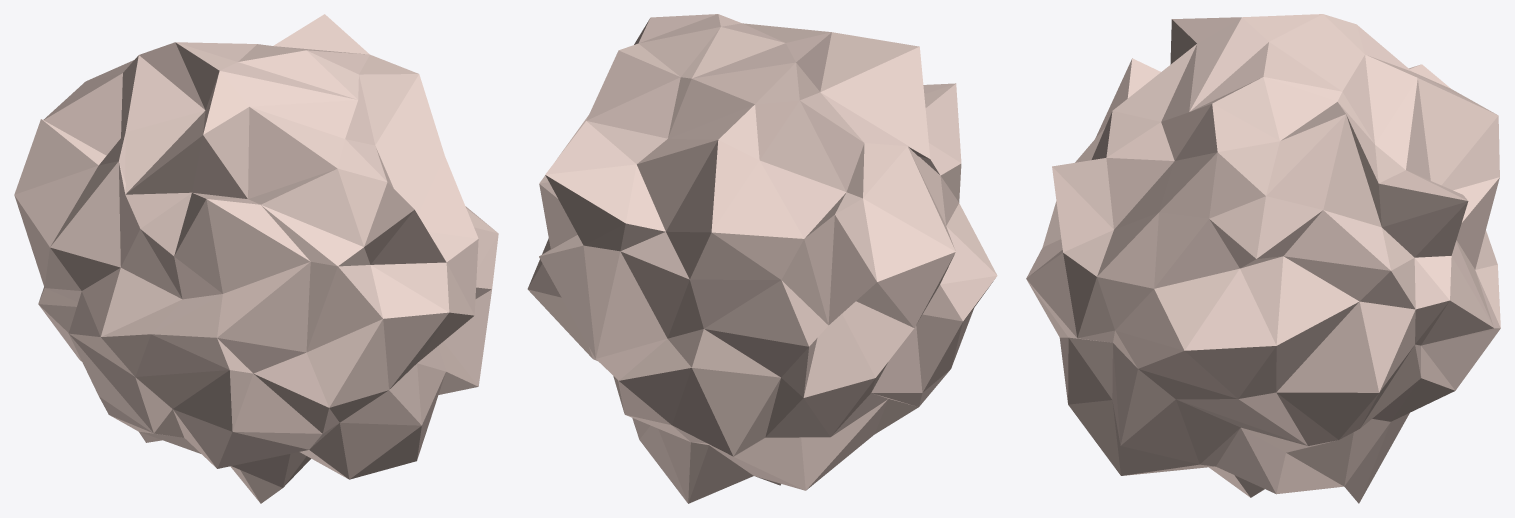
File: PapelAmassado.fbx
The picture shows the model from 3 angles, left to right: view 1: azimuth 30°, elevation 25°; view 2: azimuth 150°, elevation 25°; view 3: azimuth 270°, elevation 25°; orthographic projection. The views are drawn at different scales.
Visible parts, largest first — view 1: Icosphere; view 2: Icosphere; view 3: Icosphere.
Boxes of the visible parts, left/top/right/bottom form: Icosphere: left=14, top=14, right=498, bottom=503; Icosphere: left=527, top=14, right=997, bottom=503; Icosphere: left=1026, top=14, right=1500, bottom=503.
Bounding box in the file's own units: 204 × 221 × 207.
